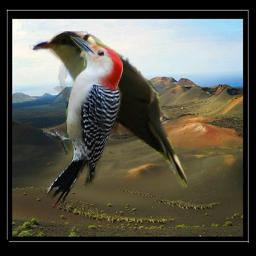Cuckoo: (29, 31, 187, 188)
Woodpecker: (43, 35, 123, 207)
